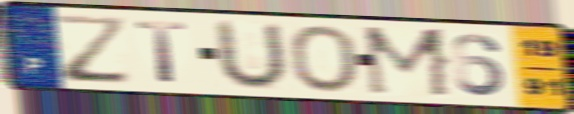6: (451, 32, 508, 98)
M: (360, 25, 455, 100)
O: (285, 23, 361, 95)
T: (132, 19, 192, 85)
U: (214, 17, 290, 92)
Z: (50, 13, 134, 86)
